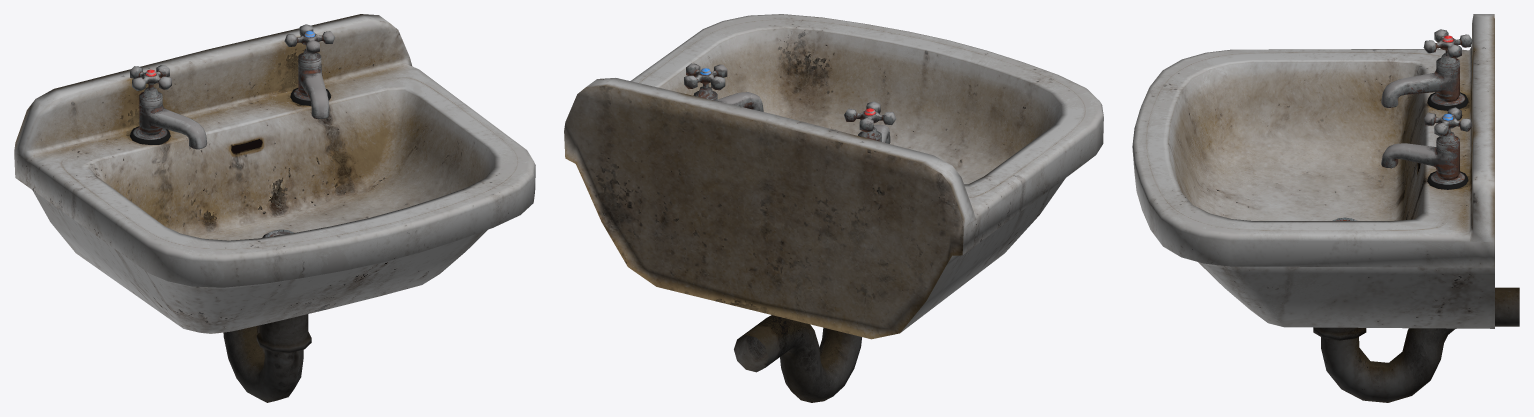
File: Sink_Bathroom1.fbx
3 views of the same model, side by side, from view 1: azimuth 30°, elevation 25°; view 2: azimuth 150°, elevation 25°; view 3: azimuth 270°, elevation 25° (orthographic). The views are drawn at different scales.
Parts seen in each view (by area): view 1: Sink_bathr1; view 2: Sink_bathr1; view 3: Sink_bathr1.
Boxes of the visible parts, x1,y1,x2,y2 form: Sink_bathr1: (14, 14, 535, 402); Sink_bathr1: (564, 14, 1103, 402); Sink_bathr1: (1132, 14, 1519, 402).
Bounding box in the file's own units: 72.79 × 58.13 × 62.64.
